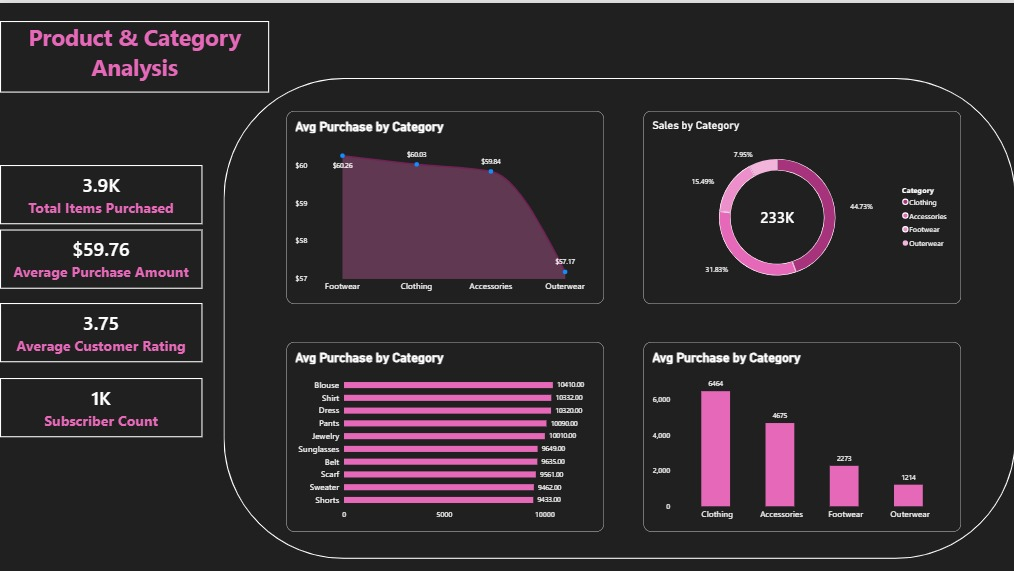

This screenshot's page, from the dashboard's own definition file:
{"tool":"powerbi","page":{"name":"Page 2","canvas":[1920,1080],"ordinal":1},"visuals":[{"type":"textbox","box":[10,0,280,280],"z":0},{"type":"textbox","box":[0,35.3,508.8,135.3],"z":1000},{"type":"cardVisual","title":"Total Sales","fields":{"Data":["customer_shopping_behavior_cleaned (2).Total Orders"]},"box":[0,305.9,382.4,111.8],"z":2000},{"type":"cardVisual","title":"Total Sales","fields":{"Data":["customer_shopping_behavior_cleaned (2).Average Purchase Amount"]},"box":[0,429.4,382.4,111.8],"z":3000},{"type":"cardVisual","title":"Total Sales","fields":{"Data":["customer_shopping_behavior_cleaned (2).Average Customer Rating"]},"box":[0,567.6,382.4,111.8],"z":4000},{"type":"cardVisual","title":"Total Sales","fields":{"Data":["customer_shopping_behavior_cleaned (2).Subscriber Count"]},"box":[0,708.8,382.4,111.8],"z":5000},{"type":"shape","box":[423.5,141.2,1497.1,908.8],"z":6000},{"type":"areaChart","title":"Avg Purchase by Category","fields":{"Category":["customer_shopping_behavior_cleaned (2).category"],"Y":["customer_shopping_behavior_cleaned (2).Average Purchase Amount"]},"box":[541.2,202.9,600,364.7],"z":7000},{"type":"donutChart","title":"Sales by Category","fields":{"Category":["customer_shopping_behavior_cleaned (2).category"],"Y":["customer_shopping_behavior_cleaned (2).Total Sales"]},"box":[1214.7,202.9,600,364.7],"z":8000},{"type":"clusteredColumnChart","title":"Avg Purchase by Category","fields":{"Category":["customer_shopping_behavior_cleaned (2).category"],"Y":["Sum(customer_shopping_behavior_cleaned (2).review_rating)"]},"box":[1214.7,641.2,600,358.8],"z":9000},{"type":"barChart","title":"Avg Purchase by Category","fields":{"Y":["customer_shopping_behavior_cleaned (2).Total Purchase Amount"],"Category":["customer_shopping_behavior_cleaned (2).item_purchased"]},"box":[541.2,641.2,600,358.8],"z":10000}]}

Visuals, with their boxes in screenshot pixels (x1, y1, x2, y2), scaled from the page's 1920x1080 canvas onto the 1014x571 screenshot:
textbox: left=5, top=0, right=153, bottom=148
textbox: left=0, top=19, right=269, bottom=90
"Total Sales" cardVisual: left=0, top=162, right=202, bottom=221
"Total Sales" cardVisual: left=0, top=227, right=202, bottom=286
"Total Sales" cardVisual: left=0, top=300, right=202, bottom=359
"Total Sales" cardVisual: left=0, top=375, right=202, bottom=434
shape: left=224, top=75, right=1013, bottom=555
"Avg Purchase by Category" areaChart: left=286, top=107, right=603, bottom=300
"Sales by Category" donutChart: left=642, top=107, right=958, bottom=300
"Avg Purchase by Category" clusteredColumnChart: left=642, top=339, right=958, bottom=529
"Avg Purchase by Category" barChart: left=286, top=339, right=603, bottom=529
